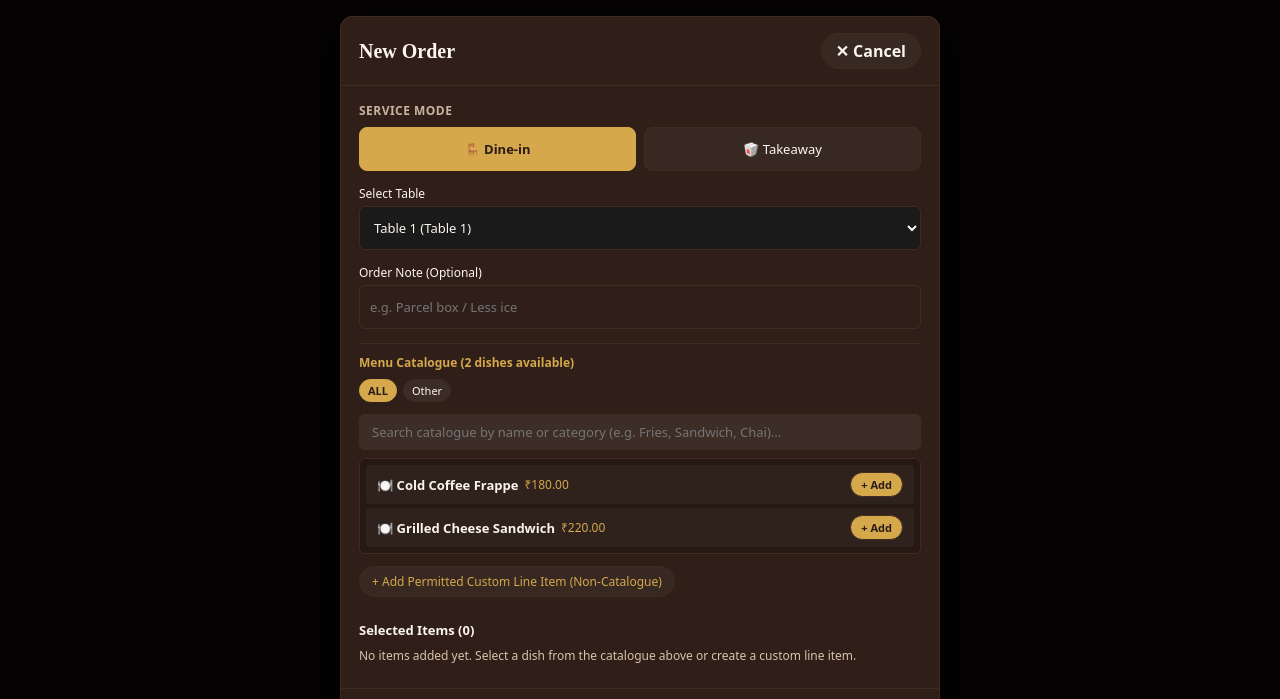
Scenario: Pre-Deployment QA & Release Readiness Test Suite › Manual & Custom Orders Across Service Modes › adds custom line items with name, price, notes and calculates total
// Add catalogue item (Cold Coffee Frappe ₹180)
Step 1. Click the button with aria-label "Add Cold Coffee Frappe" → [877, 484], box [850,472,903,497]
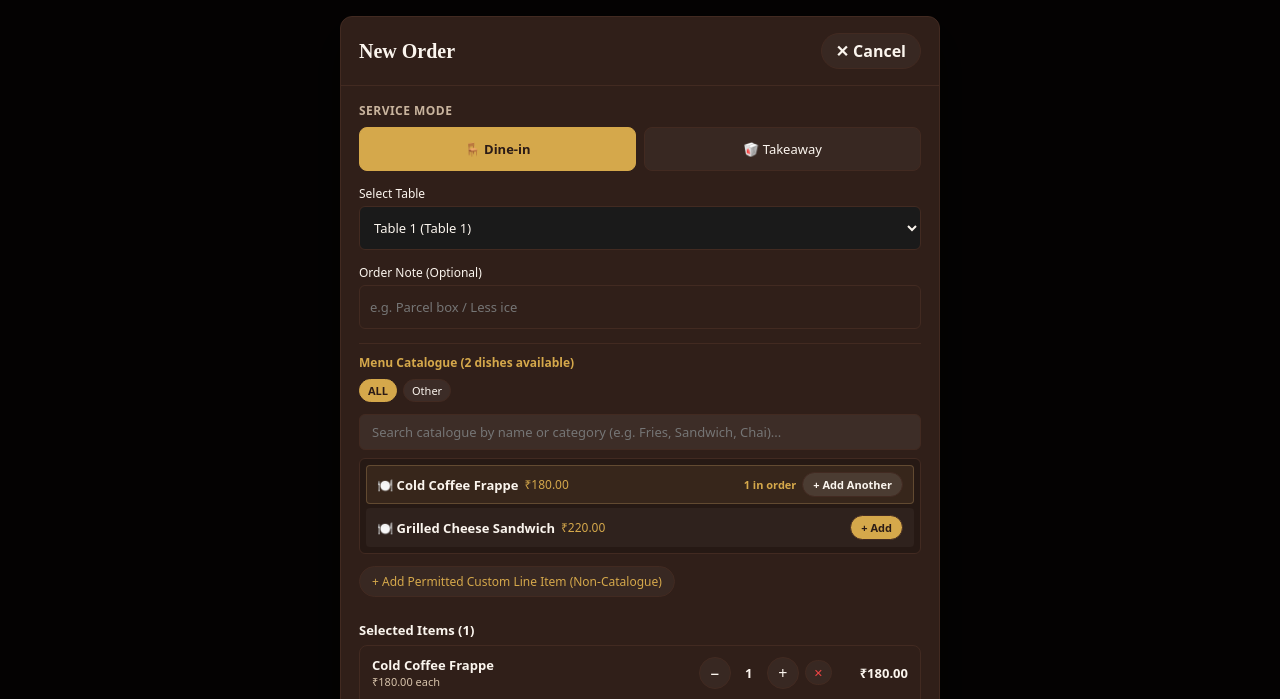
// Add custom line item (₹75)
Step 2. Click the button "+ Add Permitted Custom Line Item (Non-Catalogue)" → [517, 582], box [359,566,675,597]
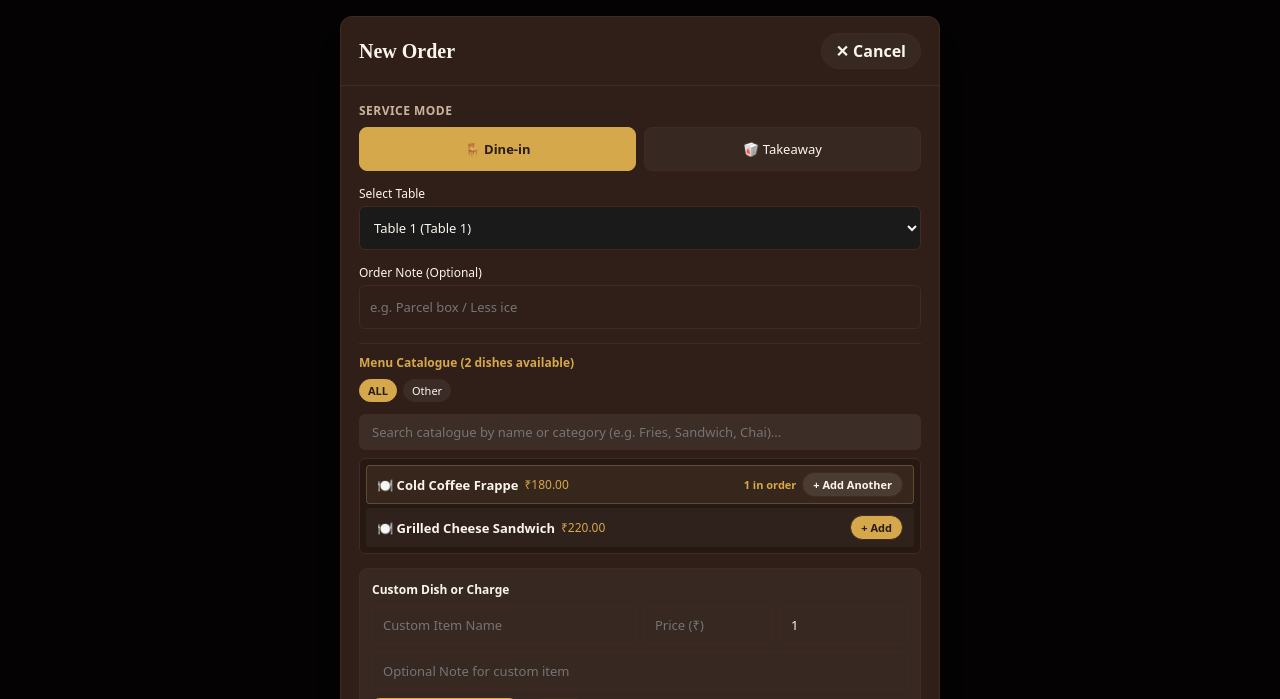
Step 3. Type "Custom Ginger Elaichi Chai" into the field with placeholder "Custom Item Name" → [504, 625], box [372,606,636,644]
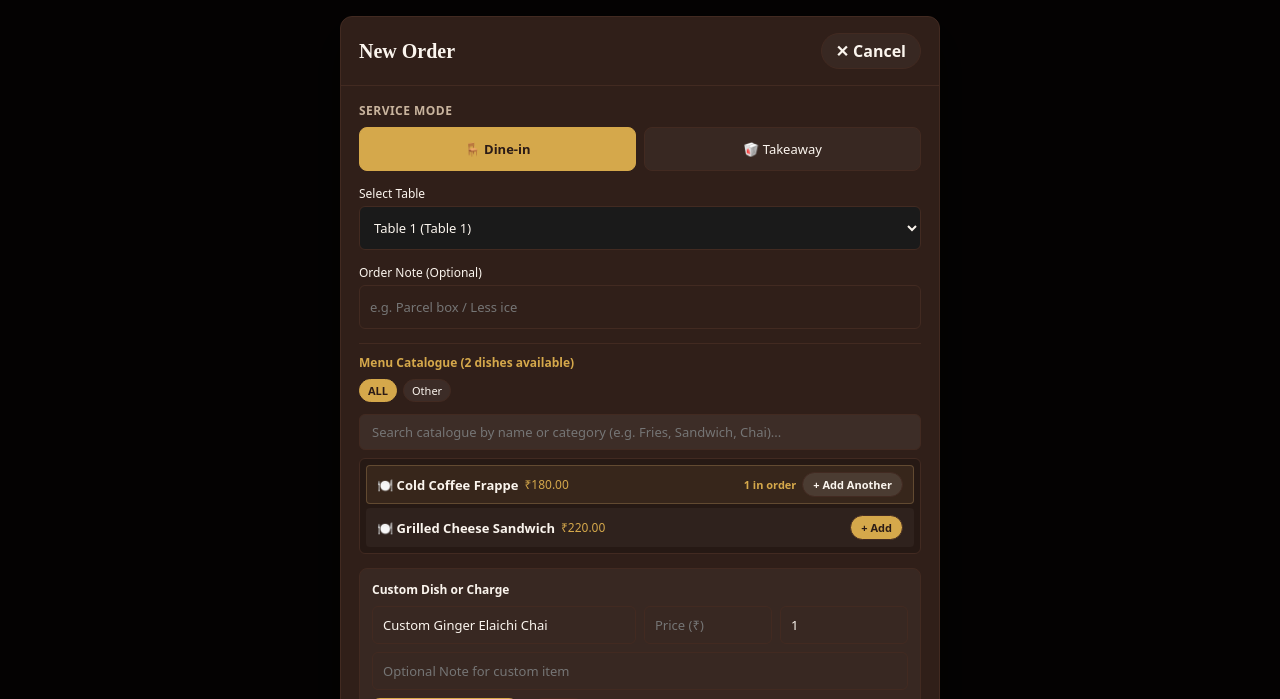
Step 4. Type "75" into the number field with placeholder "Price (₹)" → [708, 625], box [644,606,772,644]
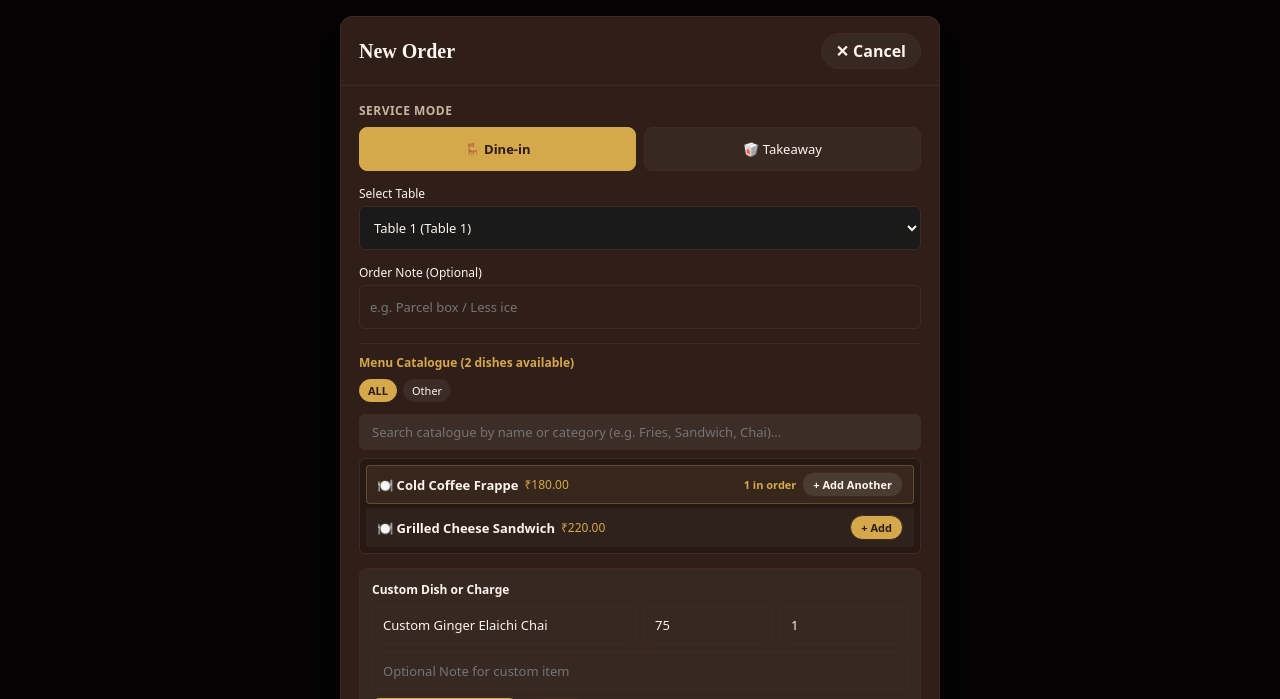
Step 5. Type "Strong decoction" into the field with placeholder "Optional Note for custom item" → [640, 671], box [372,652,908,690]
(page scrolled)
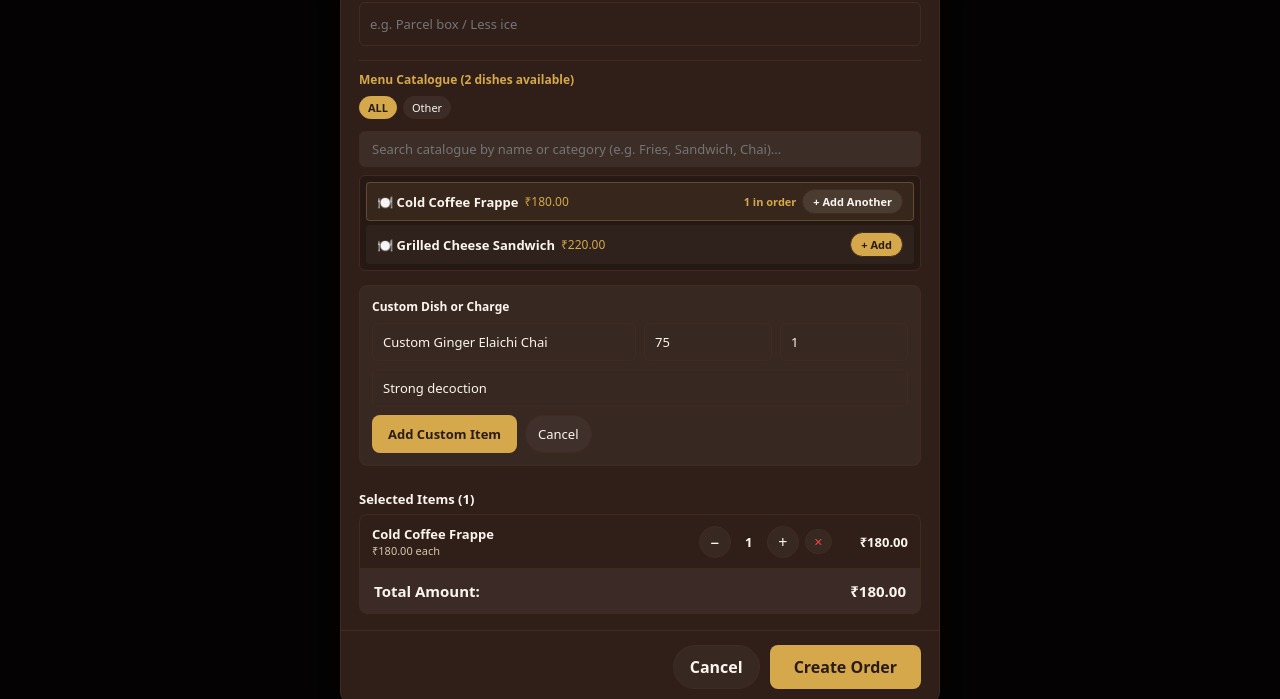
Step 6. Click the button "Add Custom Item" → [445, 434], box [372,415,517,453]
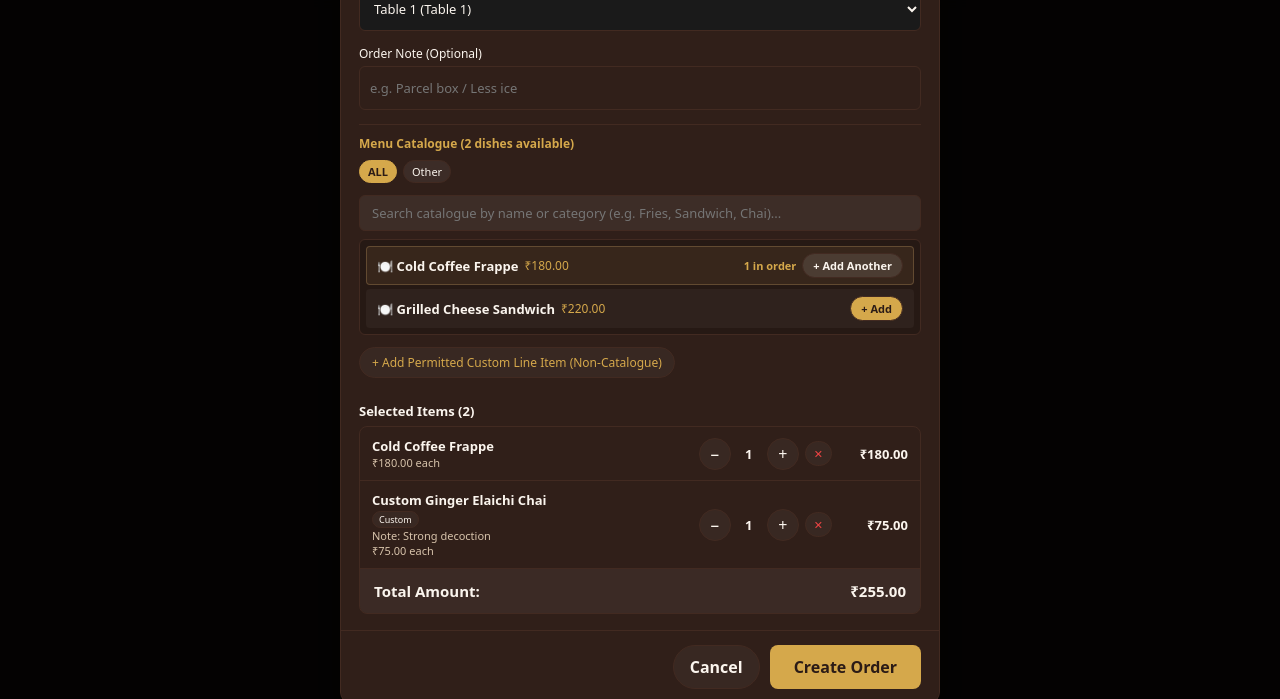
expect the text "₹255.00" is shown: met, box [850,581,906,601]
expect the text "Custom Ginger Elaichi Chai" is shown: met, box [372,491,546,509]
expect the text "Note: Strong decoction" is shown: met, box [372,528,491,543]
